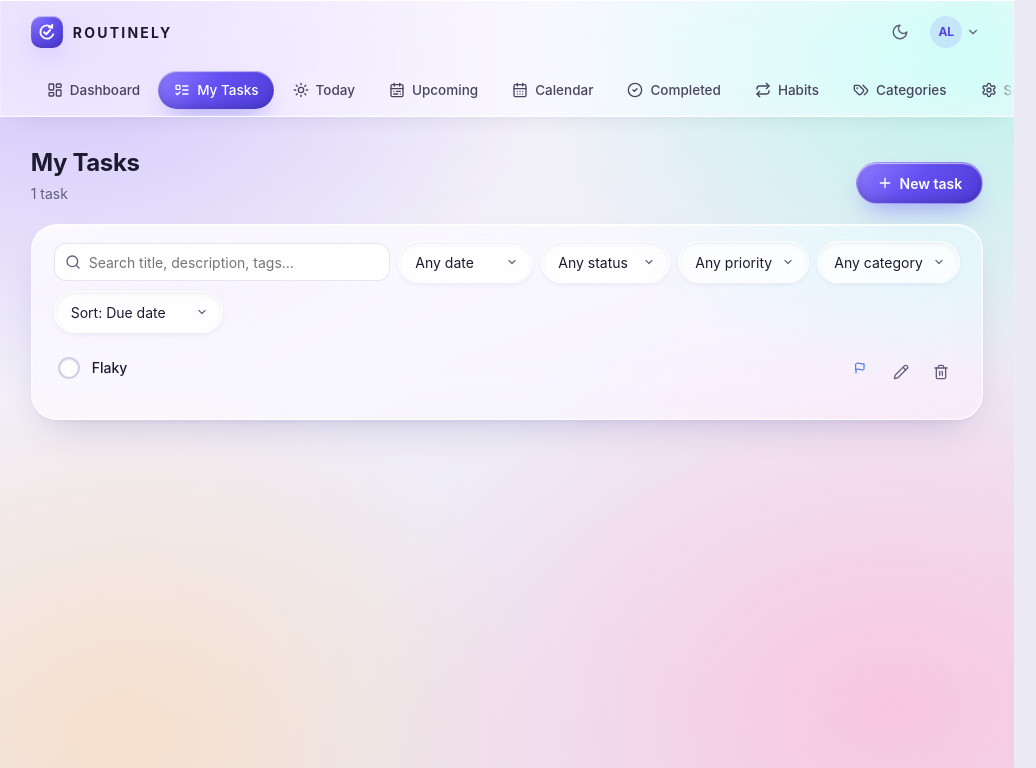
Test: task interactions › shows an error and keeps the task unchanged when saving fails
Click the checkbox named "Mark \"Flaky\" as completed".
click(69, 368)  # box [58,357,80,379]
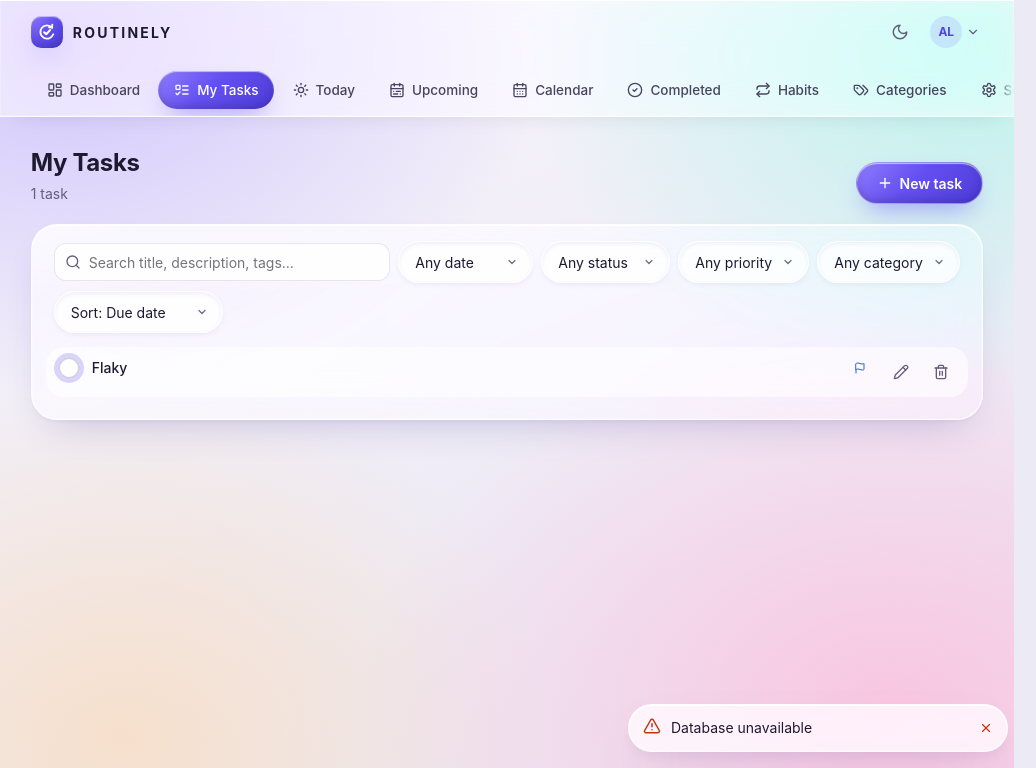
Expected: the text "Database unavailable" is shown, [671,719,812,736]
